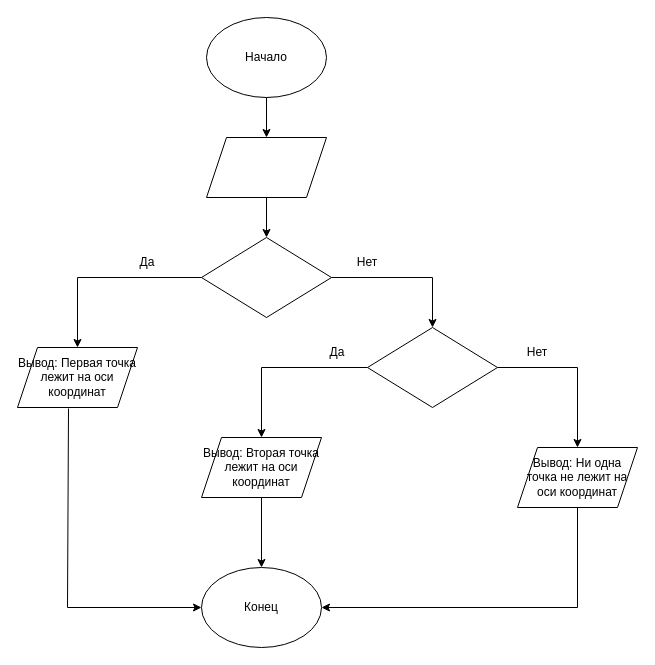
This 655x665 diagram has some shape labels left out. Each missing label, with the centre of its shape:
x1 == 0 || y1 == 0?: pixel 266 277
x2 == 0 || y2 ==0?: pixel 432 367
Ввод: x1, y1, x2, y2: pixel 266 167
